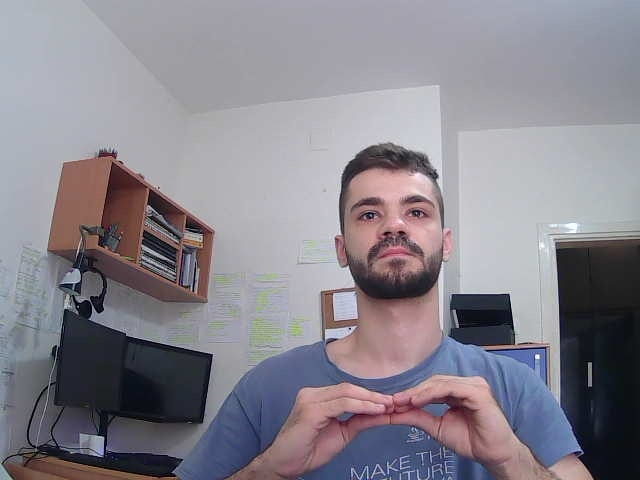b: (268, 373, 545, 473)
